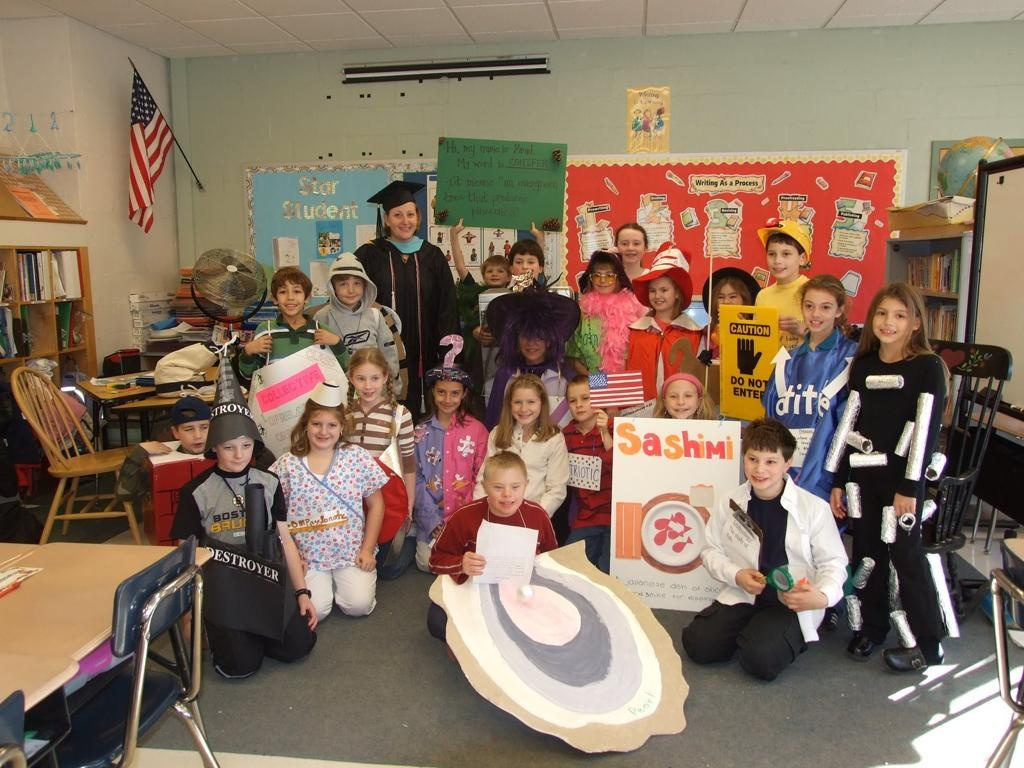human_face: (872, 294, 912, 344), (743, 442, 781, 490), (486, 467, 524, 514), (214, 428, 254, 472), (800, 289, 836, 333), (305, 410, 341, 450), (664, 380, 698, 420), (766, 242, 800, 280), (351, 364, 383, 402), (432, 376, 464, 414), (386, 200, 416, 240), (177, 418, 209, 454), (510, 388, 540, 426), (332, 272, 366, 304), (715, 284, 745, 318), (276, 280, 306, 314), (568, 385, 594, 422), (517, 329, 549, 359), (647, 276, 675, 310), (514, 250, 540, 284), (618, 230, 644, 262), (593, 263, 619, 293), (484, 262, 508, 286)
